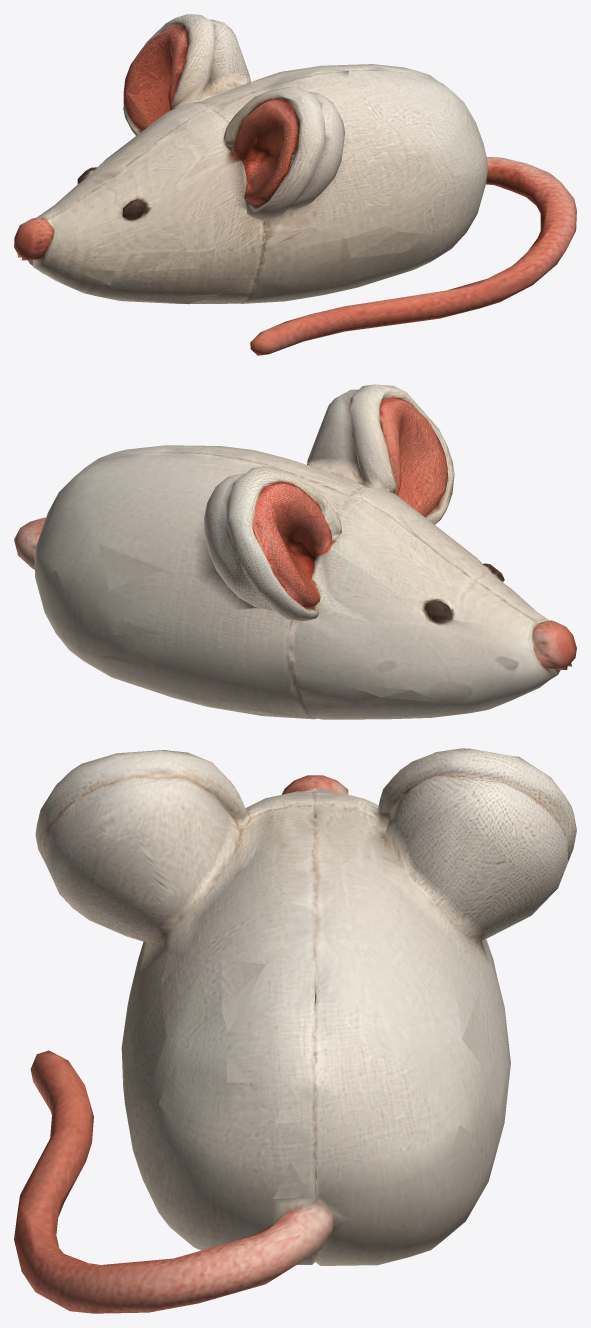
Rendered from mouse.glb.
The picture shows the model from 3 angles, top to bottom: view 1: azimuth 30°, elevation 25°; view 2: azimuth 150°, elevation 25°; view 3: azimuth 270°, elevation 25°; orthographic projection. The views are drawn at different scales.
Visible parts, largest first — view 1: tripo_node_63cc99c2; view 2: tripo_node_63cc99c2; view 3: tripo_node_63cc99c2.
Boxes of the visible parts, x1,y1,x2,y2 form: tripo_node_63cc99c2: (14,14,576,355); tripo_node_63cc99c2: (14,384,576,719); tripo_node_63cc99c2: (14,748,576,1313).
Size of the model in its own units: 0.1636 by 0.07 by 0.092.
Materials: 1 (1 with a texture image).
